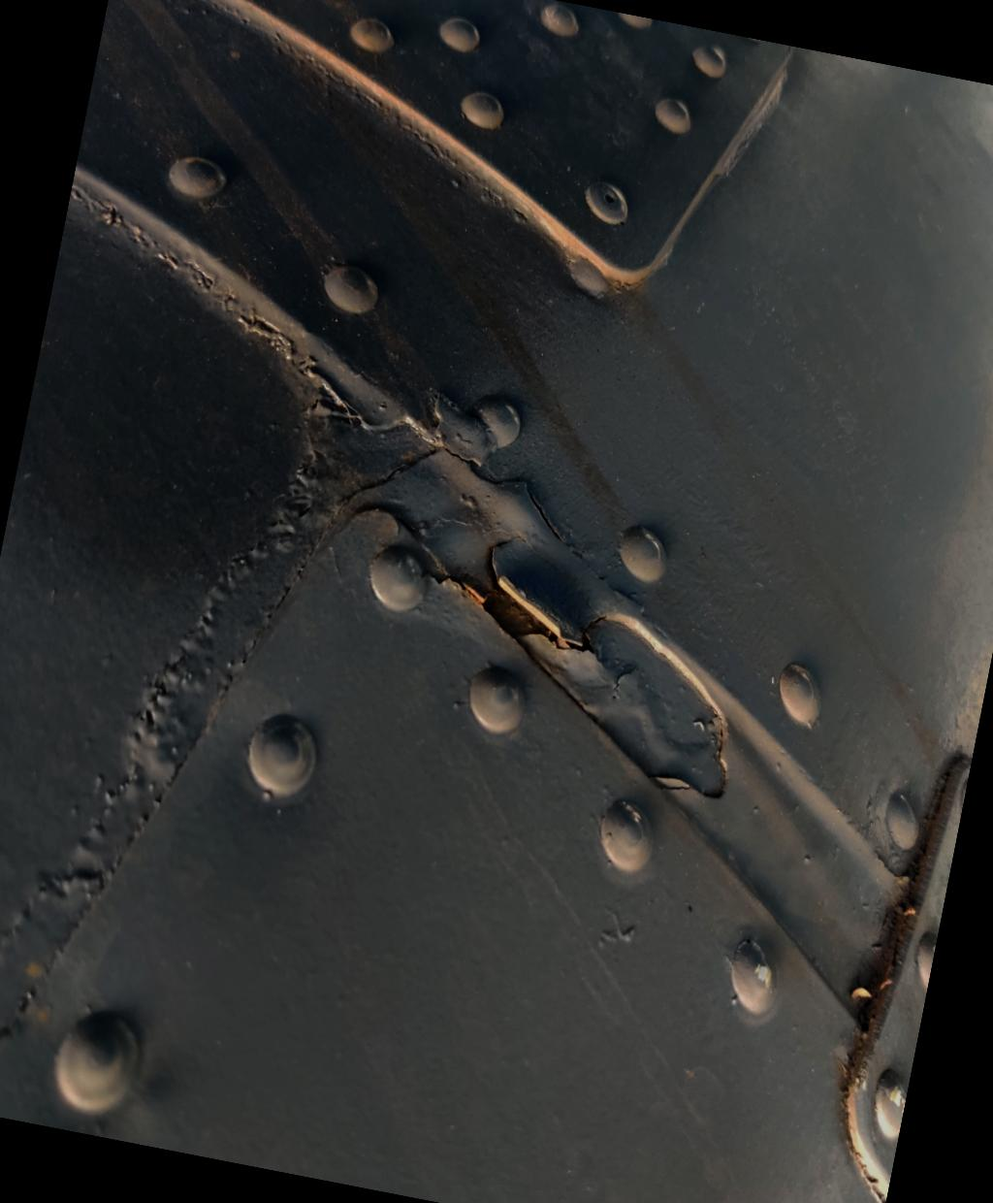crack: (390, 520, 636, 687)
